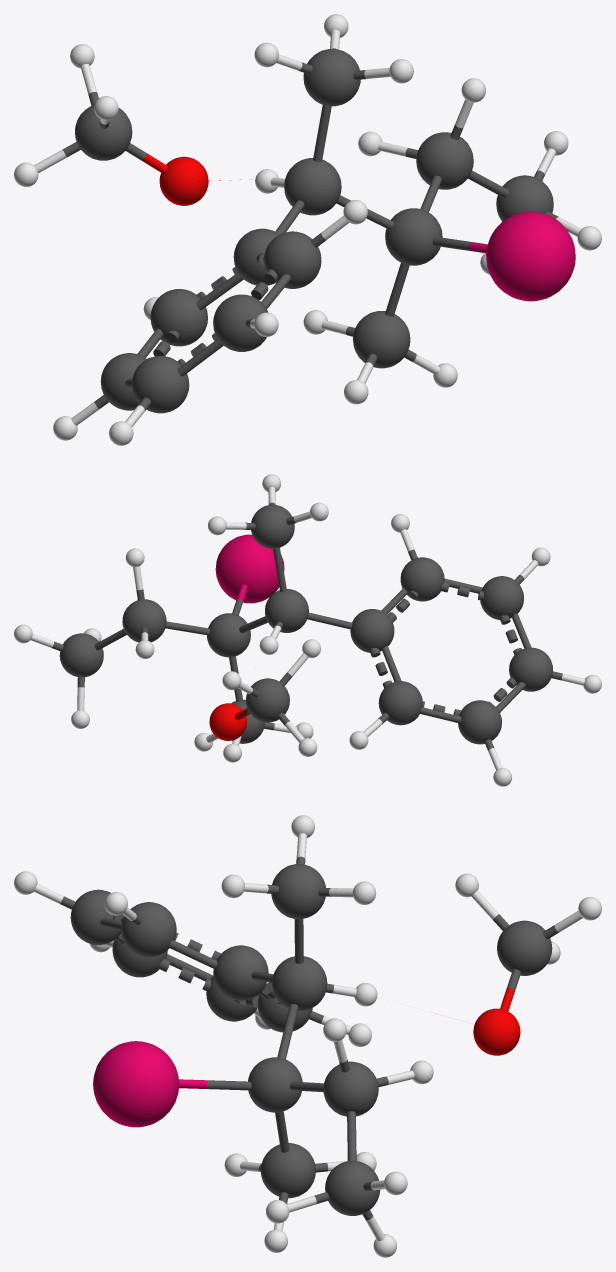
3 views of the same model, one above another, from view 1: azimuth 30°, elevation 25°; view 2: azimuth 150°, elevation 25°; view 3: azimuth 270°, elevation 25° (orthographic). The views are drawn at different scales.
Parts seen in each view (by area): view 1: Br15, C03, C02, C13, C14, C01, C10, C08, C12, C09, C06, O05 (+7 smaller); view 2: Br15, C11, C12, C16, C08, C10, C07, C03, C09, C13, C02, C06 (+9 smaller); view 3: Br15, C06, C14, C03, C01, C02, C13, C07, C08, C16, C09, O05 (+6 smaller).
Boxes of the visible parts, left/top/right/bottom form: Br15: left=486, top=211, right=575, bottom=301; C03: left=284, top=158, right=341, bottom=215; C02: left=385, top=208, right=442, bottom=265; C13: left=303, top=49, right=360, bottom=106; C14: left=353, top=311, right=410, bottom=368; C01: left=416, top=132, right=473, bottom=189; C10: left=132, top=356, right=189, bottom=413; C08: left=264, top=231, right=321, bottom=288; C12: left=150, top=289, right=207, bottom=346; C09: left=213, top=294, right=268, bottom=351; C06: left=75, top=105, right=132, bottom=160; O05: left=159, top=156, right=208, bottom=205; Br15: left=215, top=534, right=284, bottom=603; C11: left=458, top=700, right=501, bottom=744; C12: left=378, top=681, right=422, bottom=725; C16: left=59, top=633, right=103, bottom=677; C08: left=400, top=557, right=444, bottom=601; C10: left=509, top=647, right=552, bottom=691; C07: left=350, top=609, right=394, bottom=652; C03: left=265, top=589, right=308, bottom=632; C09: left=480, top=576, right=523, bottom=619; C13: left=251, top=504, right=294, bottom=548; C02: left=207, top=613, right=250, bottom=657; C06: left=246, top=678, right=289, bottom=722; Br15: left=93, top=1041, right=179, bottom=1127; C06: left=497, top=920, right=552, bottom=975; C14: left=260, top=1143, right=315, bottom=1198; C03: left=272, top=956, right=327, bottom=1010; C01: left=323, top=1061, right=378, bottom=1116; C02: left=248, top=1057, right=302, bottom=1112; C13: left=271, top=864, right=325, bottom=919; C07: left=213, top=945, right=268, bottom=1000; C08: left=121, top=902, right=176, bottom=957; C16: left=325, top=1160, right=380, bottom=1215; C09: left=70, top=889, right=123, bottom=944; O05: left=473, top=1008, right=520, bottom=1055.
Bounding box in the file's own units: 9.16 × 5.35 × 7.96.
